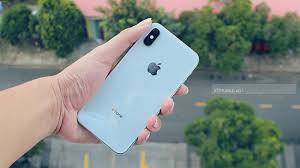iphone: (76, 17, 200, 155)
iphone10: (76, 16, 200, 154)
